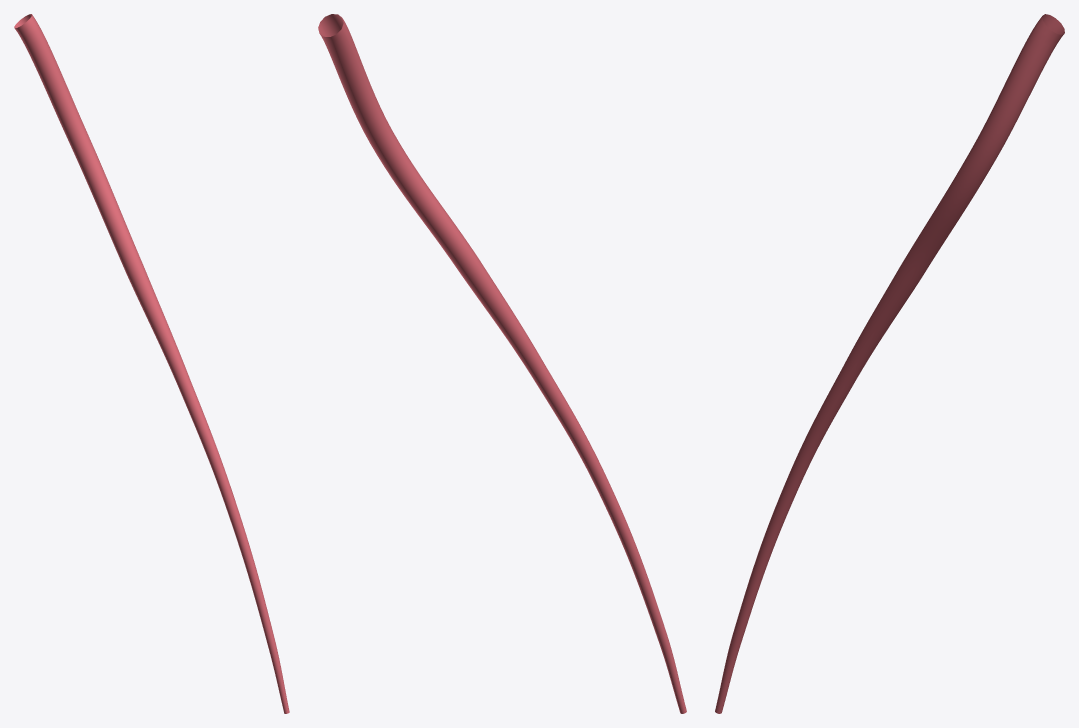
The picture shows the model from 3 angles, left to right: view 1: azimuth 90°, elevation 25°; view 2: azimuth 150°, elevation 25°; view 3: azimuth 270°, elevation 25°; orthographic projection. The views are drawn at different scales.
Visible parts, largest first — view 1: ZA_ddb9d6e9205023af; view 2: ZA_ddb9d6e9205023af; view 3: ZA_ddb9d6e9205023af.
Part boxes in pixels (<box>): ZA_ddb9d6e9205023af: <box>14,14,289,713</box>; ZA_ddb9d6e9205023af: <box>318,14,686,713</box>; ZA_ddb9d6e9205023af: <box>715,14,1064,713</box>.
Size of the model in its own units: 0.034 by 0.1218 by 0.0488.
